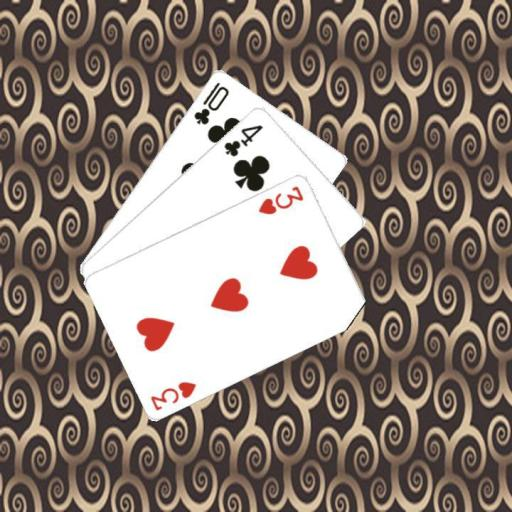10C: (190, 78, 230, 126)
3H: (255, 182, 306, 216), (148, 378, 199, 412)
4C: (221, 121, 265, 158)
